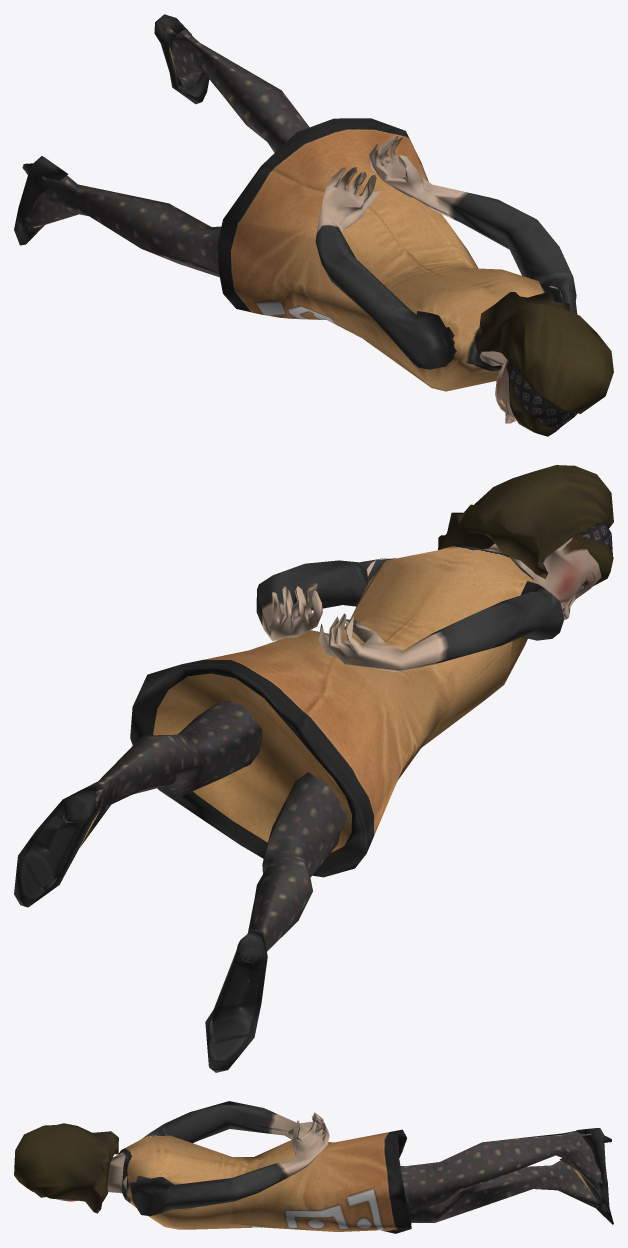
Rendered from dest_nt_nuked_female_01_d0_LOD2.obj.
3 renders of one model, top to bottom at view 1: azimuth 30°, elevation 25°; view 2: azimuth 150°, elevation 25°; view 3: azimuth 270°, elevation 25°, orthographic. The views are drawn at different scales.
Visible parts, largest first — view 1: mtl_nt_2020_manne_fem01_dress1, mtl_nt_2020_manne_fem01_head1, mtl_nt_2020_manne_fem01_hair1; view 2: mtl_nt_2020_manne_fem01_dress1, mtl_nt_2020_manne_fem01_head1, mtl_nt_2020_manne_fem01_hair1; view 3: mtl_nt_2020_manne_fem01_head1, mtl_nt_2020_manne_fem01_dress1, mtl_nt_2020_manne_fem01_hair1.
Part boxes in pixels (x1=…): mtl_nt_2020_manne_fem01_dress1: x1=14, y1=14, x2=544, y2=391; mtl_nt_2020_manne_fem01_head1: x1=21, y1=22, x2=577, y2=423; mtl_nt_2020_manne_fem01_hair1: x1=475, y1=292, x2=613, y2=436; mtl_nt_2020_manne_fem01_dress1: x1=14, y1=544, x2=535, y2=1072; mtl_nt_2020_manne_fem01_head1: x1=21, y1=537, x2=601, y2=1042; mtl_nt_2020_manne_fem01_hair1: x1=438, y1=465, x2=613, y2=586; mtl_nt_2020_manne_fem01_head1: x1=56, y1=1101, x2=608, y2=1223; mtl_nt_2020_manne_fem01_dress1: x1=118, y1=1128, x2=613, y2=1233; mtl_nt_2020_manne_fem01_hair1: x1=14, y1=1123, x2=118, y2=1213.
Size of the model in its own units: 62.35 by 52.2 by 182.
